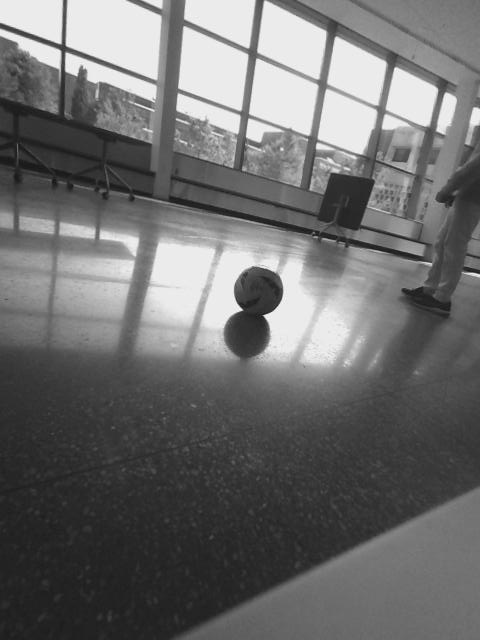ball: (230, 262, 285, 316)
